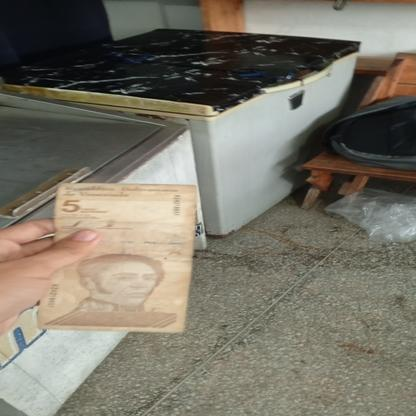five-front-vef: (36, 182, 198, 332)
